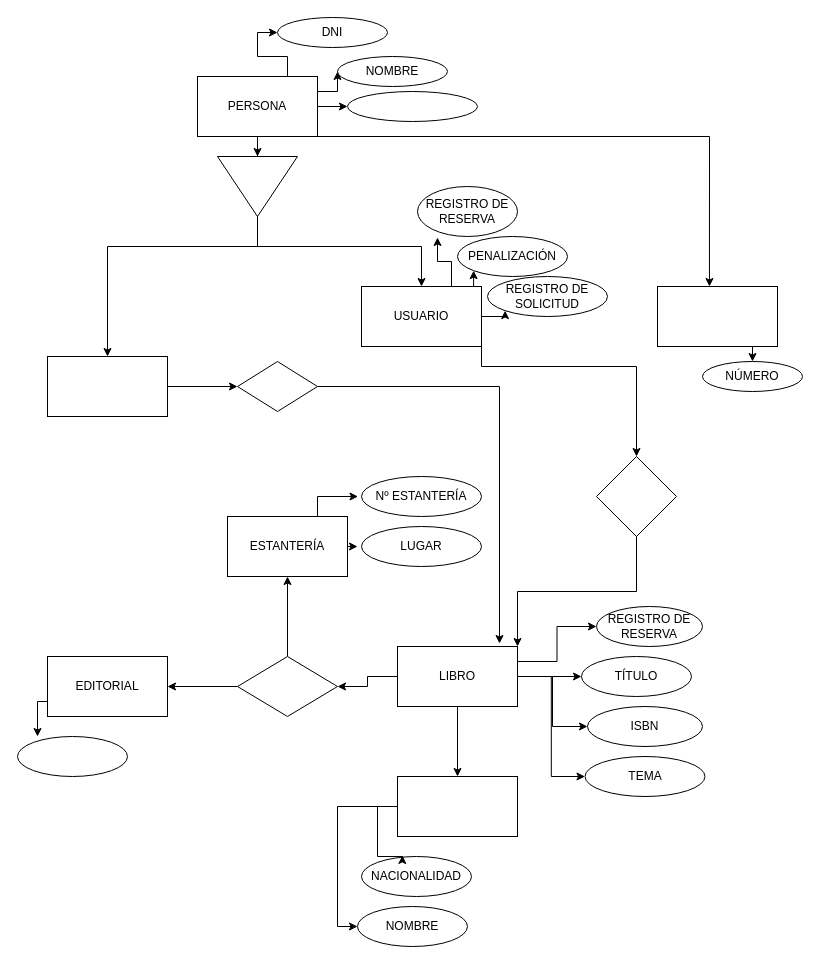
Image size: 820x964. Some labels were removed from this diagram. Here are the shapes that lost their labels. From the top down, the centre of each, then its label:
At point (412, 106): "TELÉFONO".
At point (257, 186): "IS A".
At point (717, 316): "CARNET BIBLIOTECA".
At point (107, 386): "EMPLEADO".
At point (277, 386): "SOLICITA".
At point (636, 496): "PUEDE RETIRAR".
At point (287, 686): "PERTENECE".
At point (72, 756): "DIRECCIÓN".
At point (457, 806): "AUTOR".
